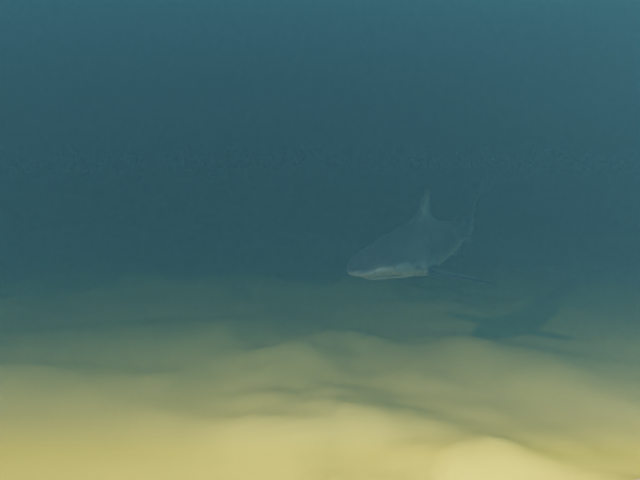Carribean Shark.001: (346, 176, 496, 284)
